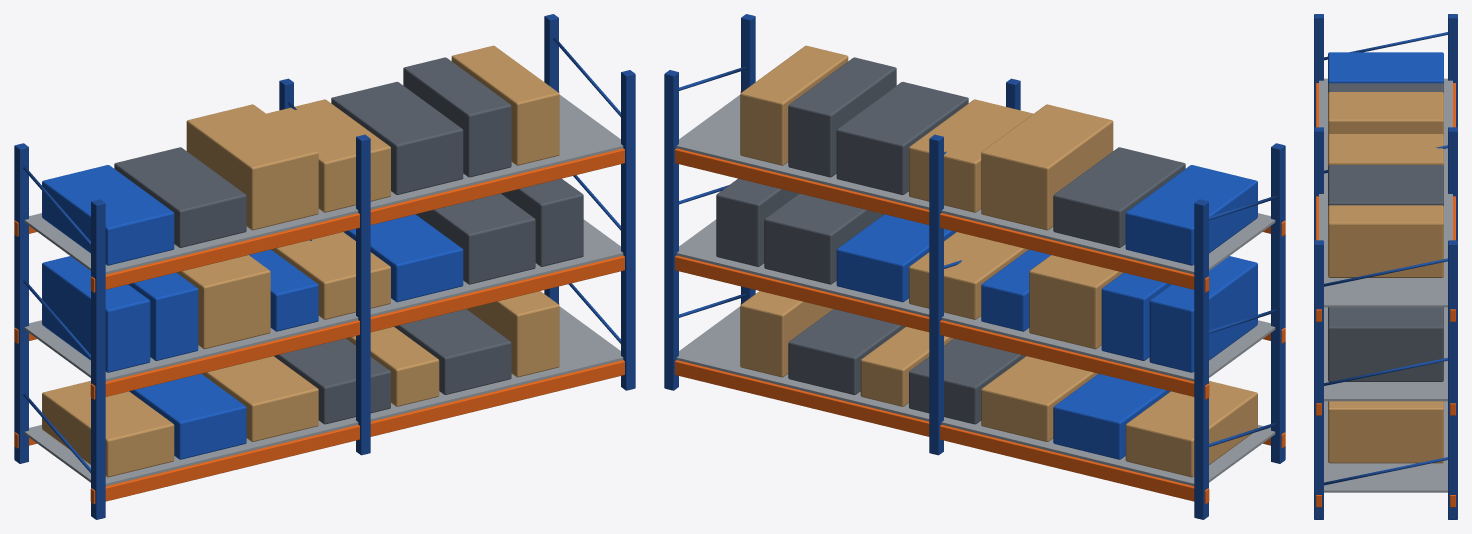
File: rack.glb
3 views of the same model, side by side, from view 1: azimuth 30°, elevation 25°; view 2: azimuth 150°, elevation 25°; view 3: azimuth 270°, elevation 25° (orthographic). The views are drawn at different scales.
Parts seen in each view (by area): view 1: rack; view 2: rack; view 3: rack.
Boxes of the visible parts, box(x1,y1,x2,y2) form: rack: box(14, 14, 635, 519); rack: box(664, 14, 1285, 519); rack: box(1314, 14, 1457, 519).
Size of the model in its own units: 4.5 by 2.5 by 1.18.
